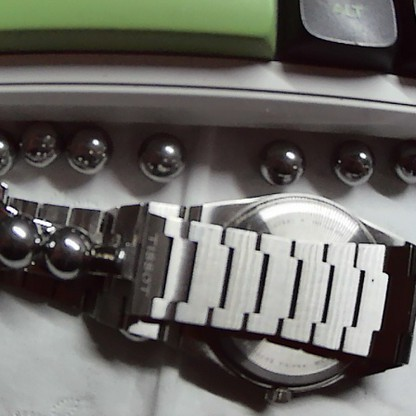ironball: (129, 132, 191, 187), (40, 224, 94, 279), (15, 120, 65, 171), (0, 210, 38, 277), (256, 139, 307, 187), (67, 126, 114, 176), (335, 139, 376, 187), (0, 121, 21, 180), (393, 136, 414, 183)
